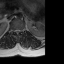CCS_normal: (16, 28, 18, 36)
LFS_stenosis: (20, 28, 22, 33)
LLS_normal: (18, 28, 20, 34)
RFS_normal: (13, 28, 15, 34)
RLS_normal: (15, 28, 16, 34)
